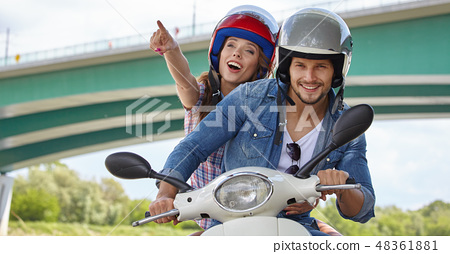helmet: (282, 7, 359, 76), (208, 4, 278, 61)
